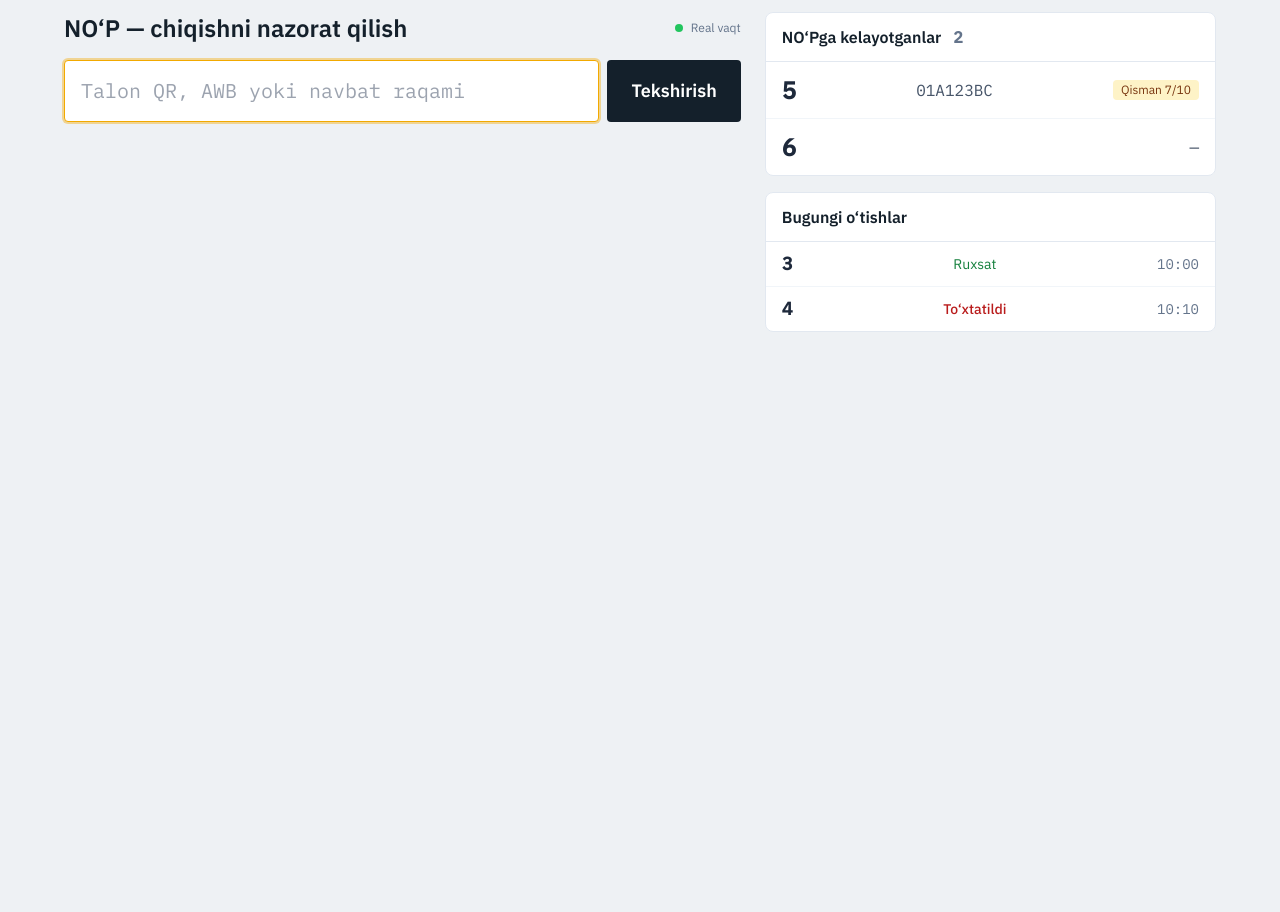
CheckpointPage › makes the officer tick every check before the exit can be confirmed
Type "5" into the field named "Talonni skanerlash" at (332, 91), box [64, 60, 599, 122]
Then press Enter
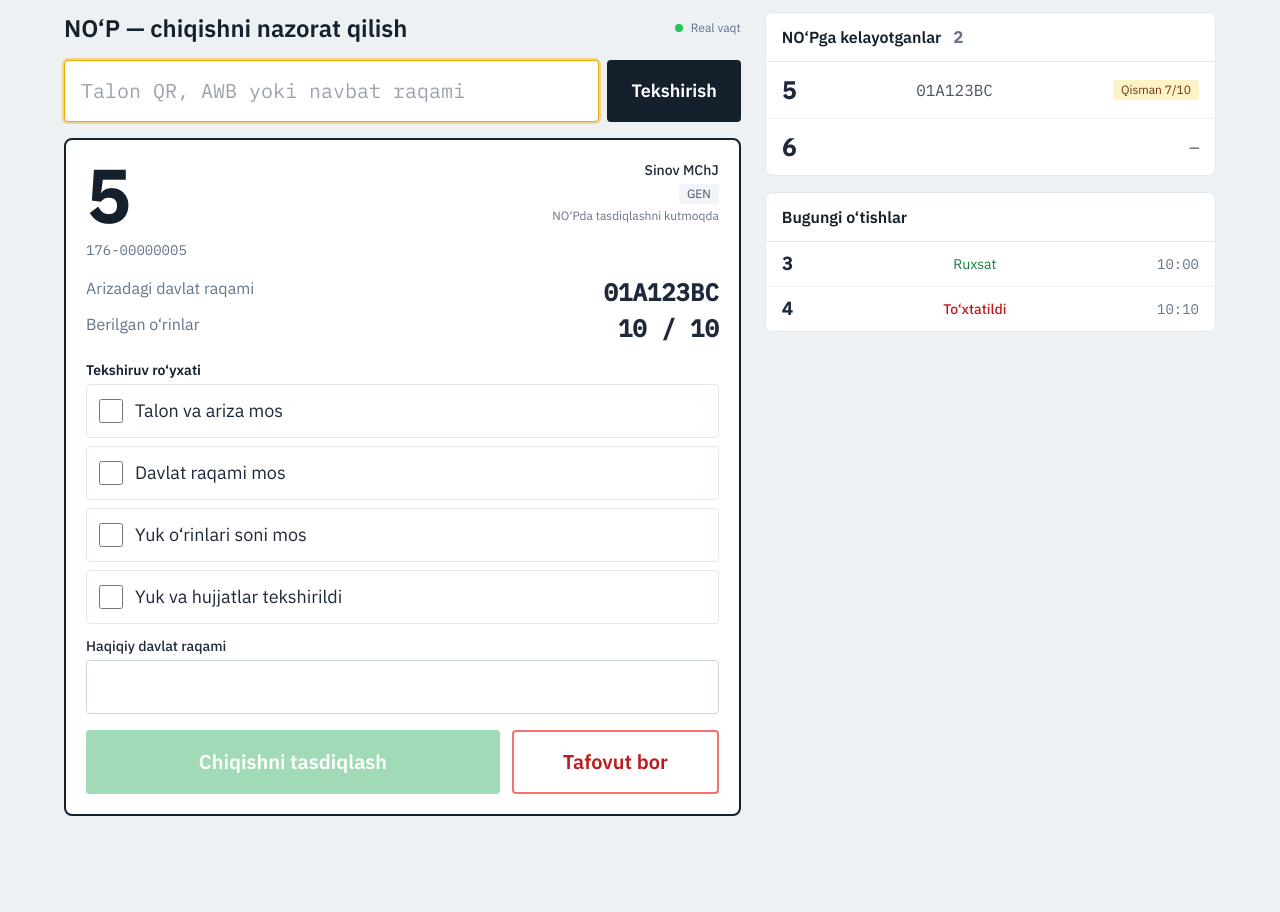
Result: the button "Chiqishni tasdiqlash" is disabled at [86, 730, 500, 794]
Click the checkbox labelled "Talon va ariza mos" at (111, 411), box [99, 399, 123, 423]
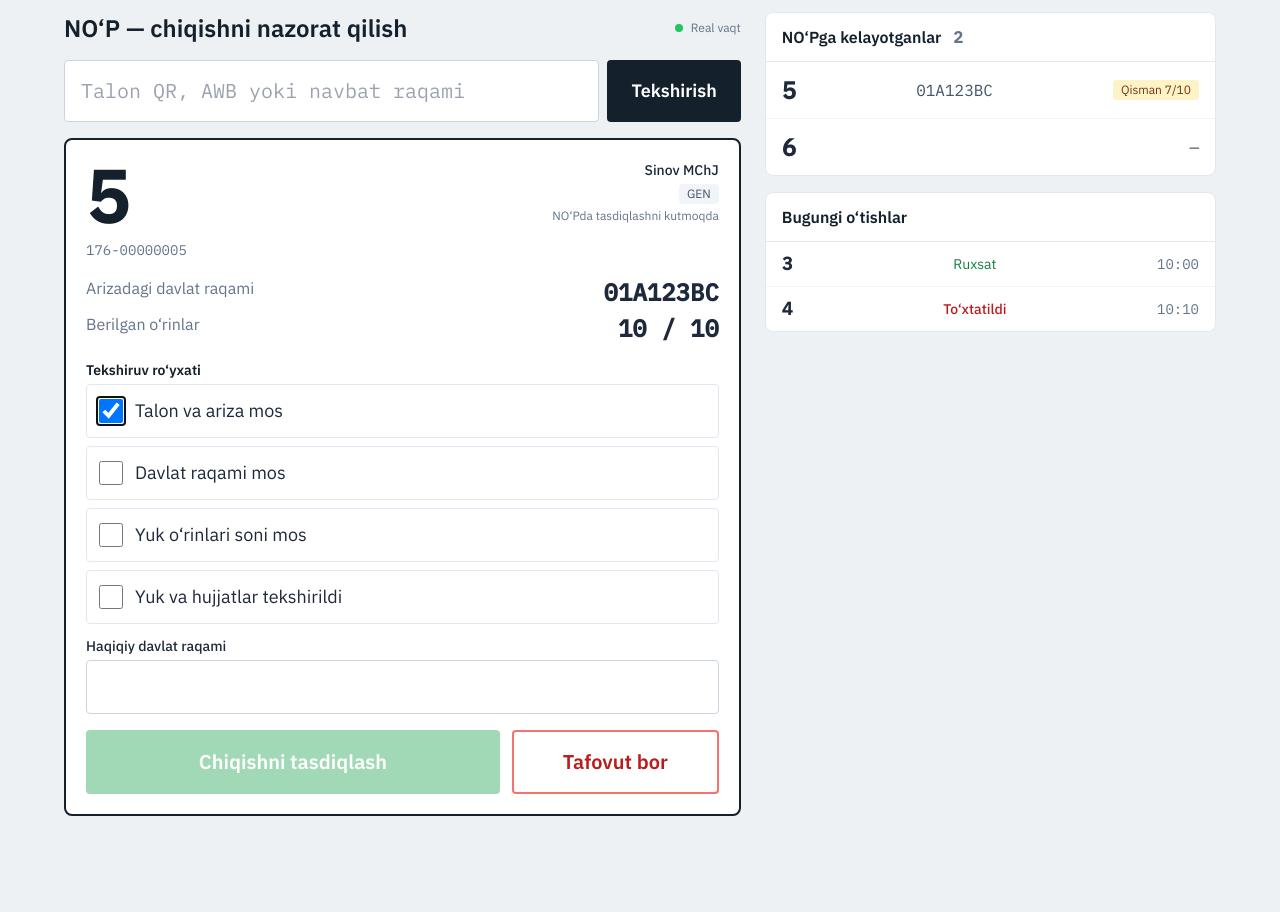
Click the checkbox labelled "Davlat raqami mos" at (111, 473), box [99, 461, 123, 485]
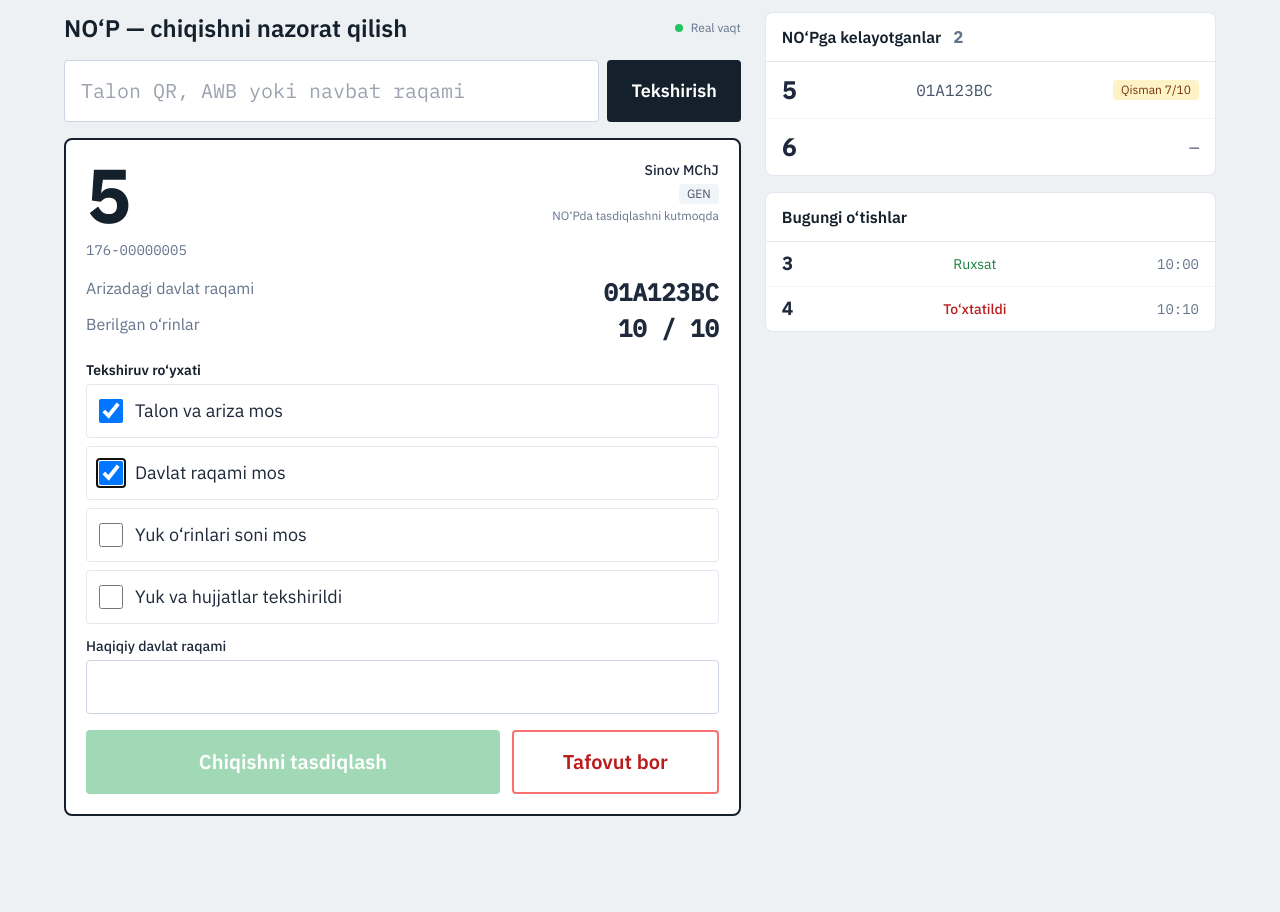
Result: the button "Chiqishni tasdiqlash" is disabled at [86, 730, 500, 794]
Click the checkbox labelled "Yuk o‘rinlari soni mos" at (111, 535), box [99, 523, 123, 547]
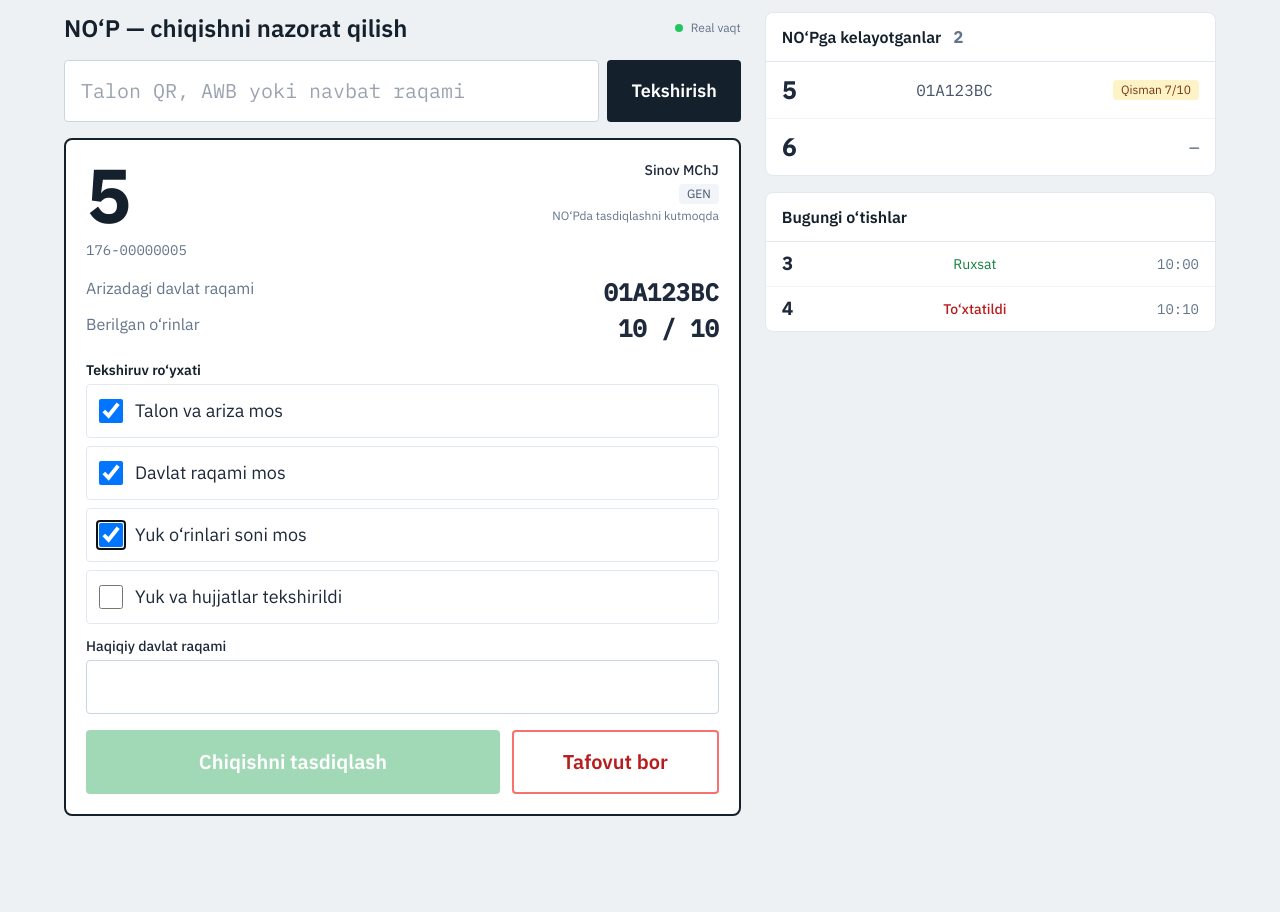
Click the checkbox labelled "Yuk va hujjatlar tekshirildi" at (111, 597), box [99, 585, 123, 609]
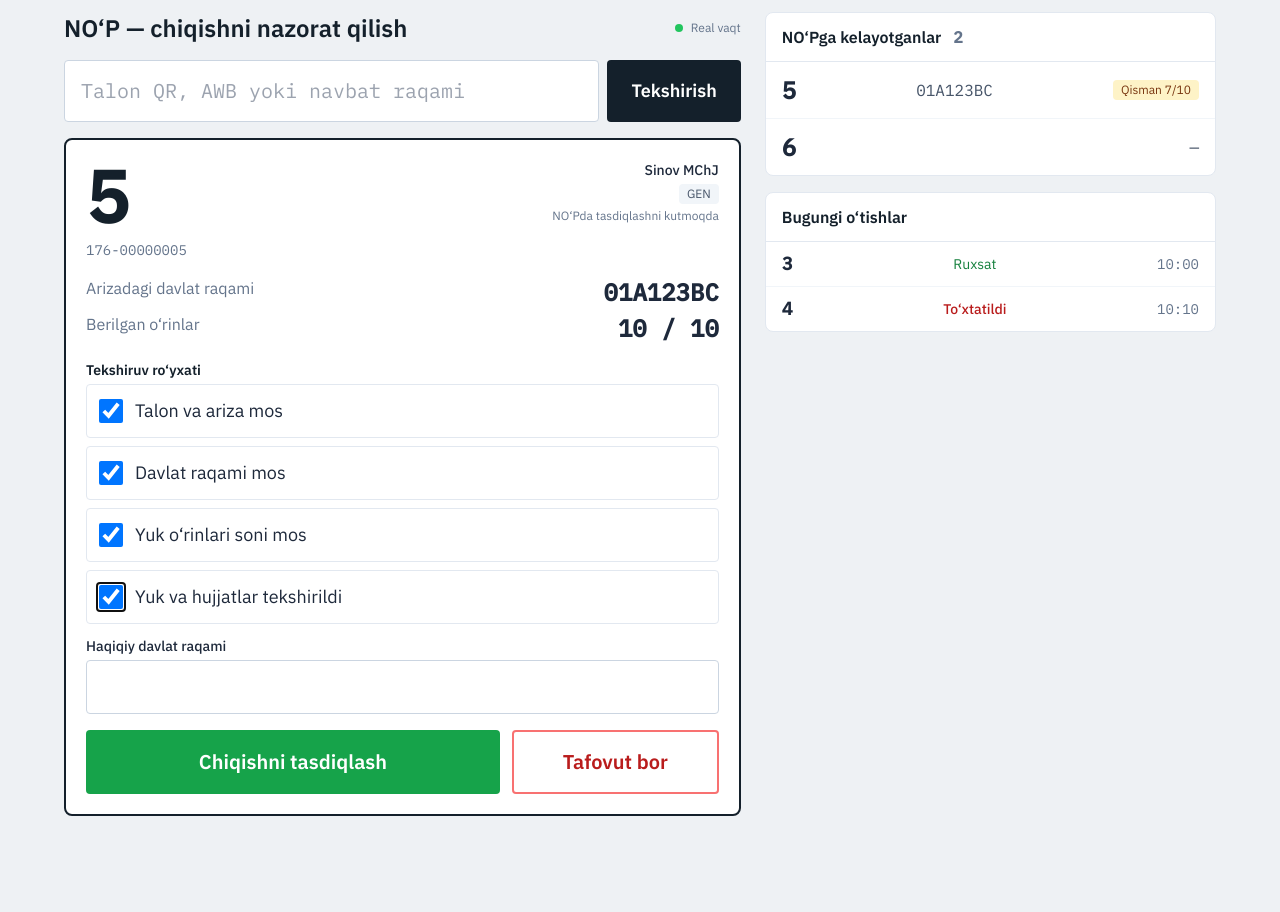
Result: the button "Chiqishni tasdiqlash" is enabled at [86, 730, 500, 794]
